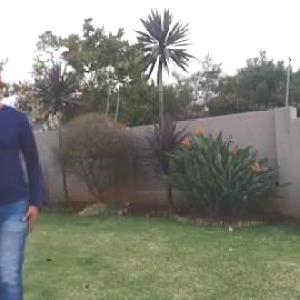follow: (1, 63, 43, 299)
